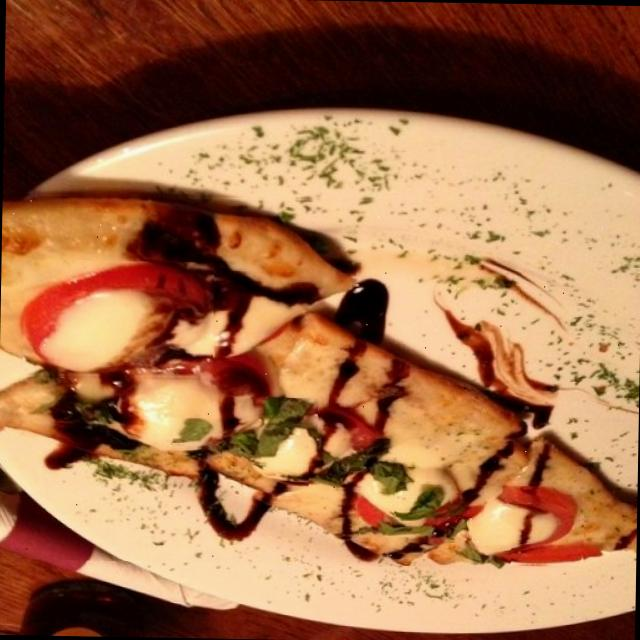basil: (222, 396, 318, 464), (308, 437, 420, 490), (358, 516, 472, 540), (394, 484, 451, 522), (455, 539, 512, 572), (172, 418, 213, 448)
pizza: (0, 195, 637, 565)
tomato: (22, 259, 214, 377), (483, 485, 584, 565)
